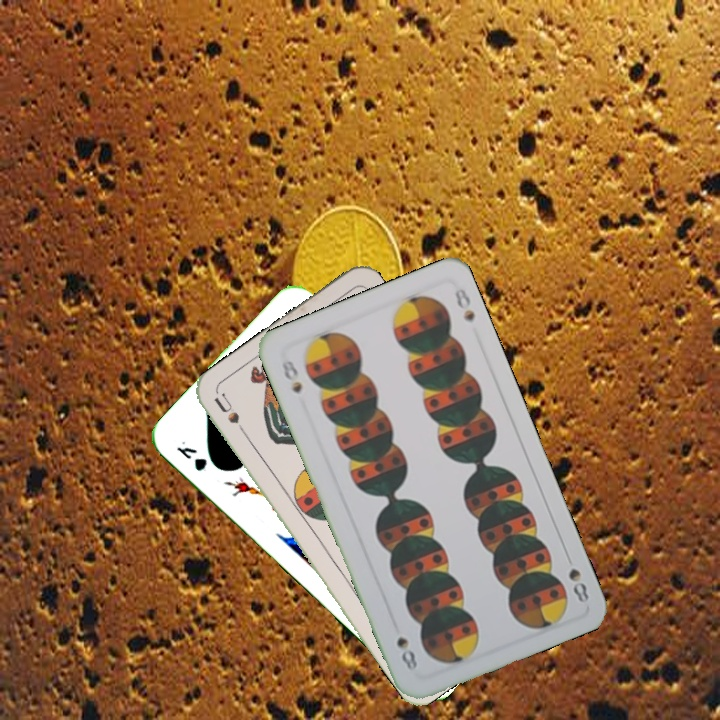GK: (172, 436, 210, 474)
S8: (561, 548, 592, 606), (277, 355, 305, 397)
SU: (209, 390, 253, 444)
